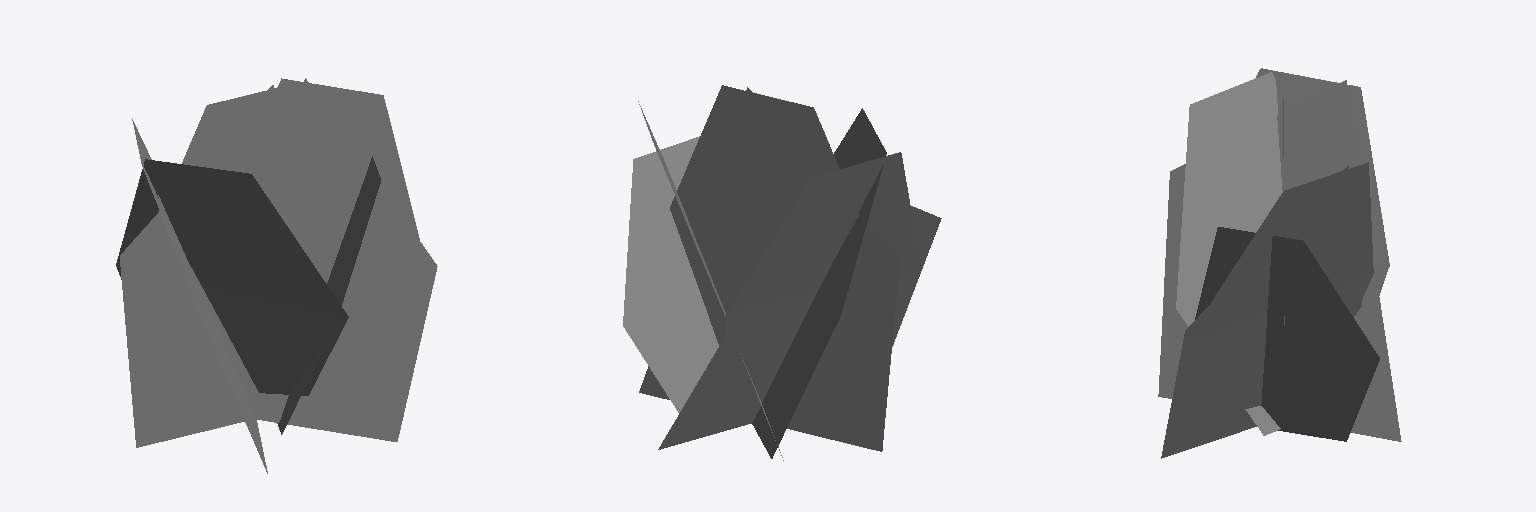
Rendered from Foliage_Grass_Clump.obj.
The picture shows the model from 3 angles: view 1: azimuth 30°, elevation 25°; view 2: azimuth 150°, elevation 25°; view 3: azimuth 270°, elevation 25°; orthographic projection.
Visible parts, largest first — view 1: Foliage_Grass_Clump_LOD0, Foliage_Grass_Clump_LOD1; view 2: Foliage_Grass_Clump_LOD0, Foliage_Grass_Clump_LOD1; view 3: Foliage_Grass_Clump_LOD0, Foliage_Grass_Clump_LOD1.
Part boxes in pixels (left/top/right/bottom): Foliage_Grass_Clump_LOD0: left=116, top=78, right=431, bottom=450; Foliage_Grass_Clump_LOD1: left=120, top=78, right=437, bottom=473; Foliage_Grass_Clump_LOD0: left=623, top=85, right=921, bottom=458; Foliage_Grass_Clump_LOD1: left=639, top=87, right=941, bottom=460; Foliage_Grass_Clump_LOD0: left=1166, top=68, right=1389, bottom=445; Foliage_Grass_Clump_LOD1: left=1158, top=80, right=1401, bottom=458.
Size of the model in its own units: 54.13 by 63.89 by 42.43.